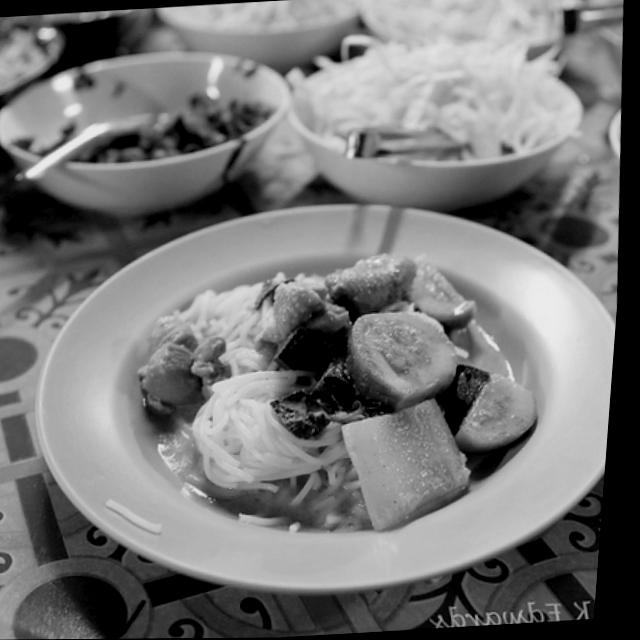面条主食: (16, 169, 630, 607)
